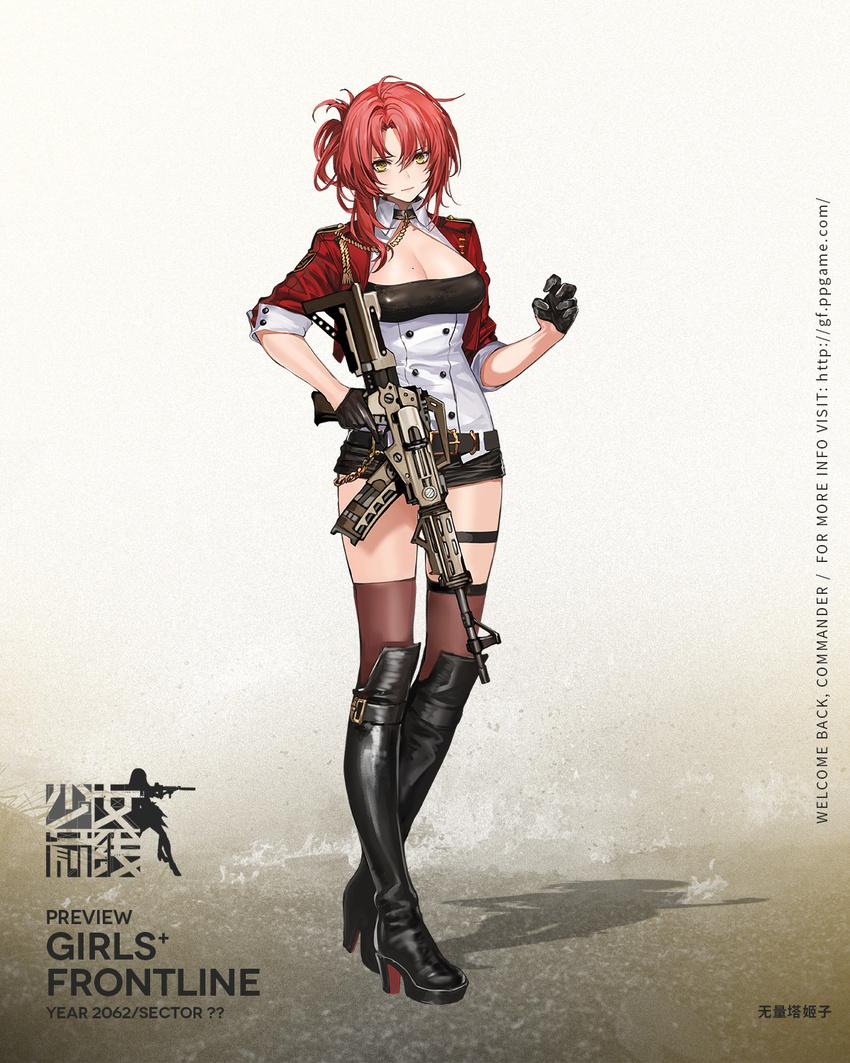rifle: (299, 280, 503, 686)
